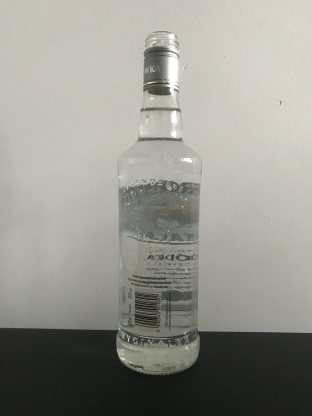nakretka: (140, 28, 182, 96)
